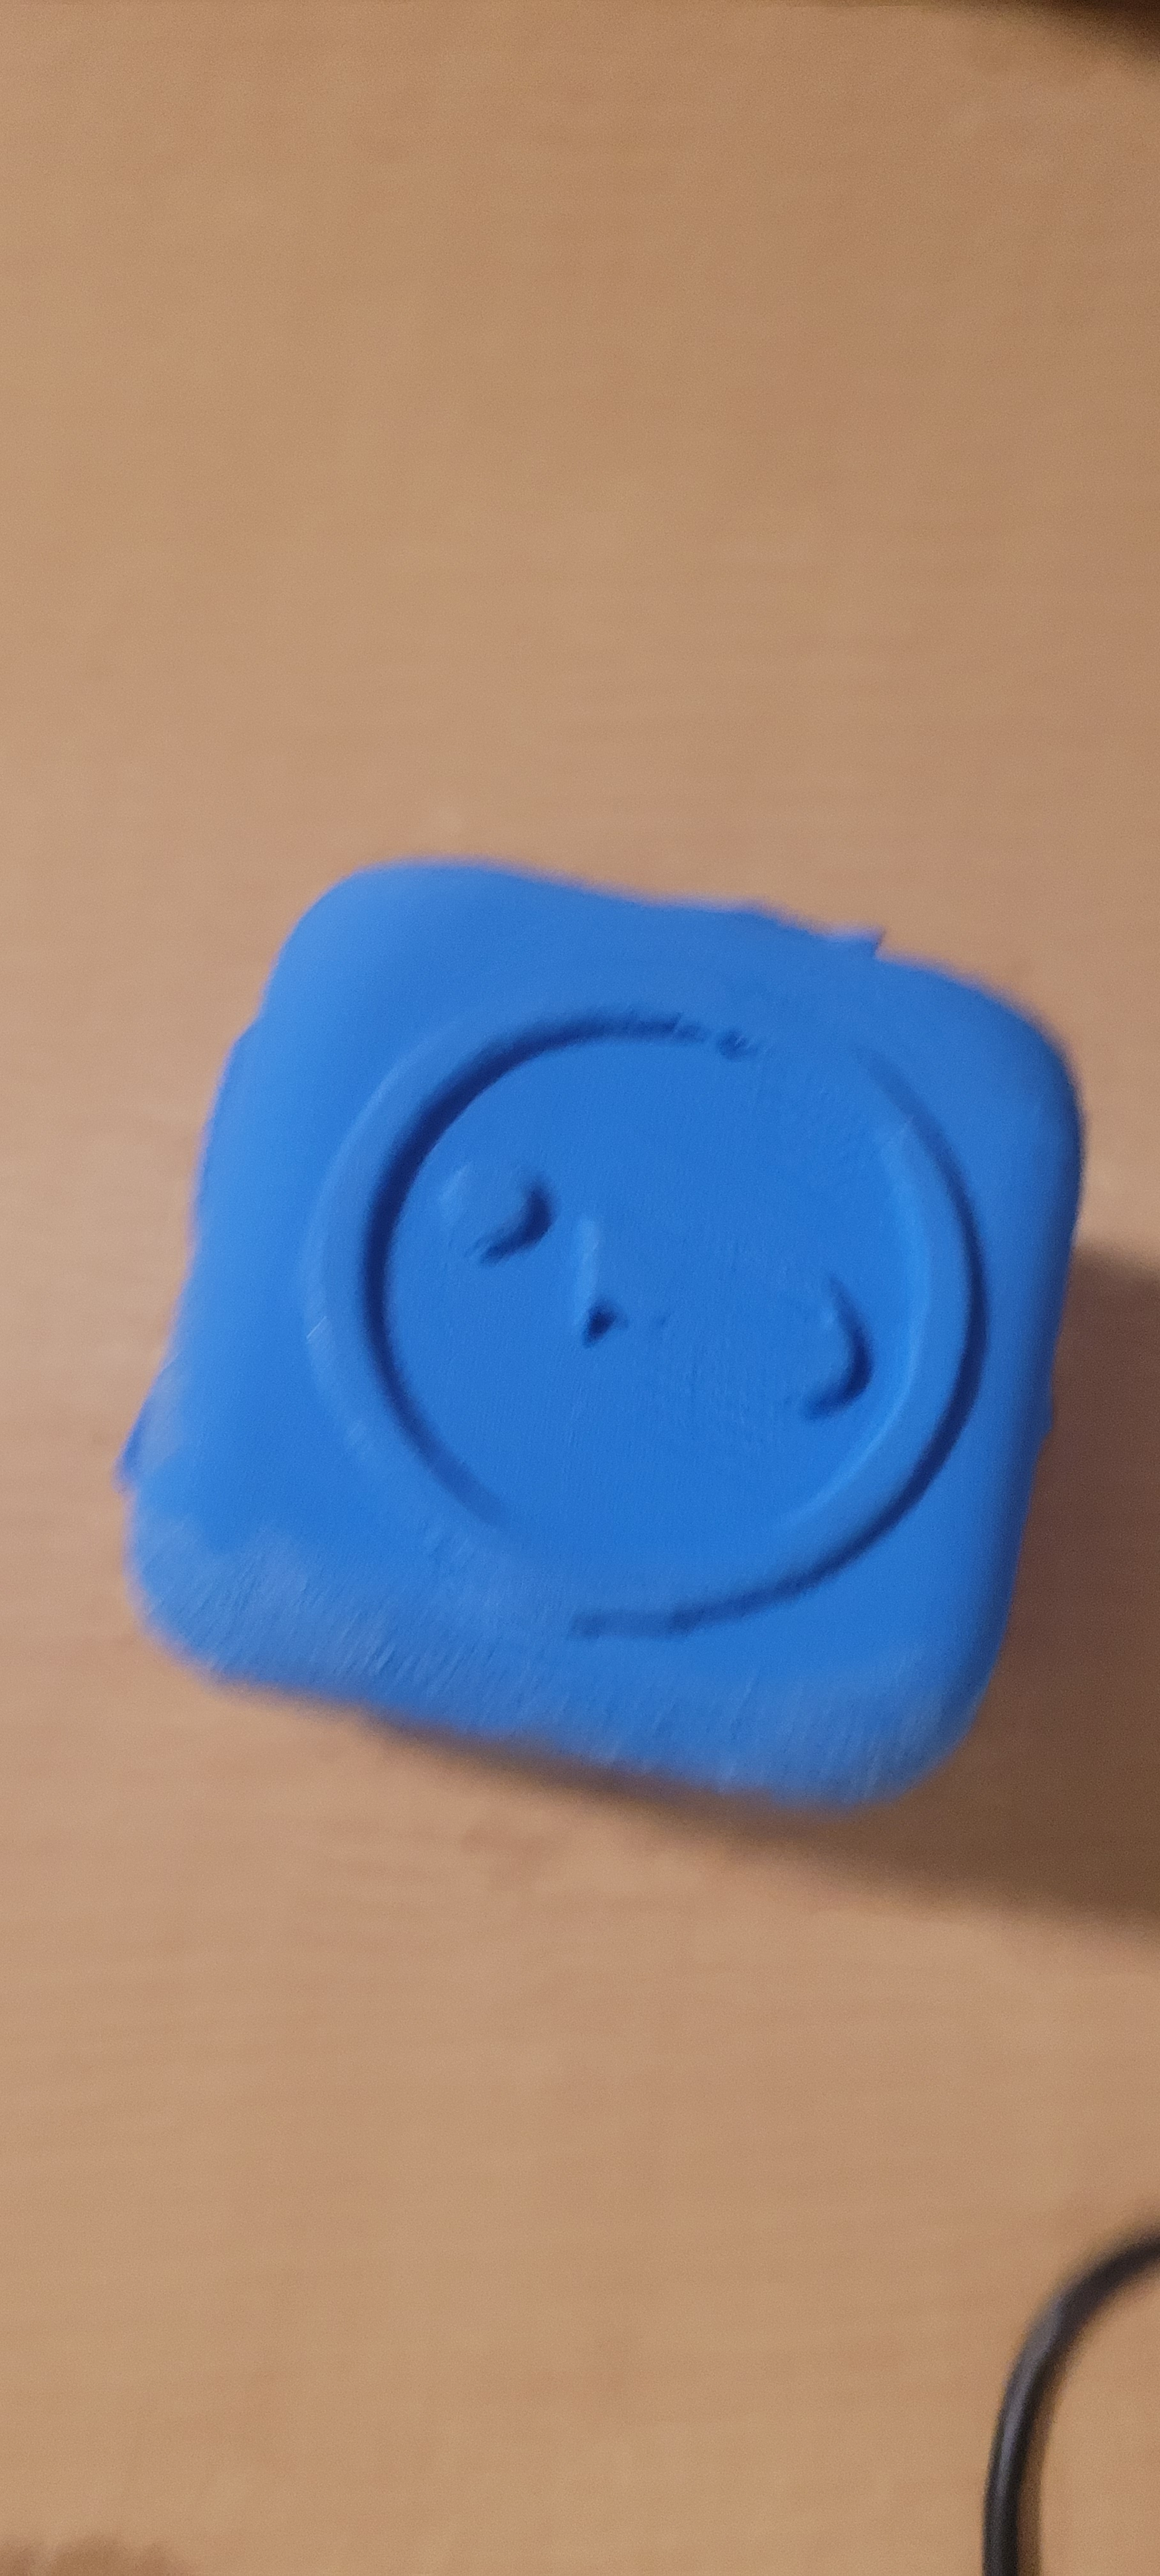Info: (291, 897, 1022, 1709)
